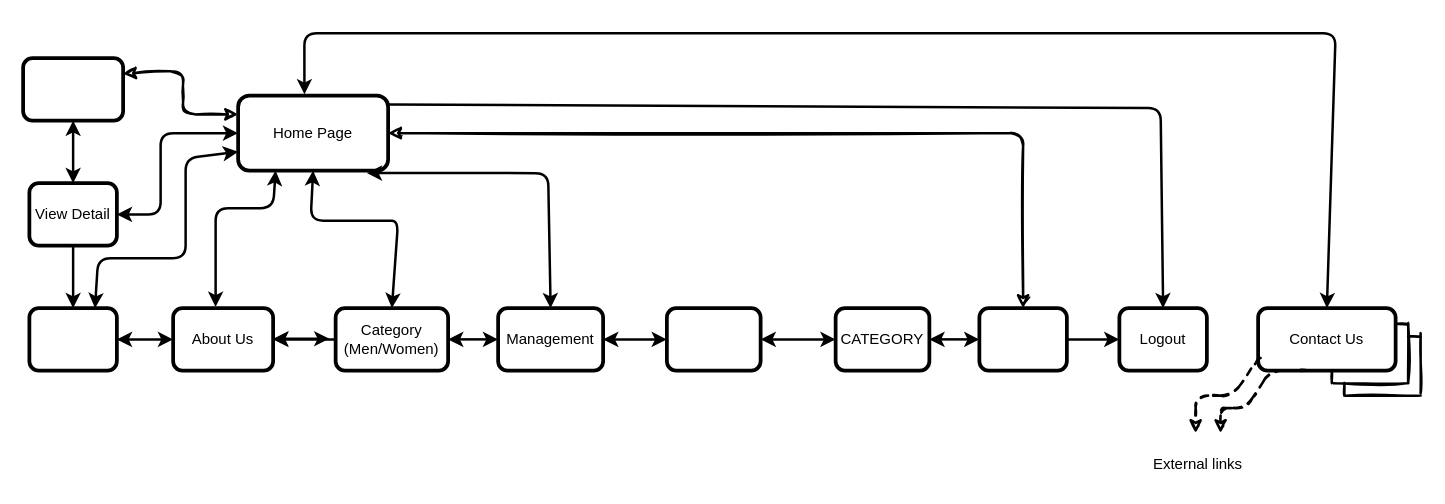
The diagram is 1445 pixels wide and 504 high, and some of its shapes have lost their labels. Each missing label, with the box of its shape:
Cart: (27, 306, 118, 372)
PRODUCT: (664, 306, 762, 372)
Shop: (21, 56, 124, 122)
Update Profile: (977, 306, 1068, 372)
